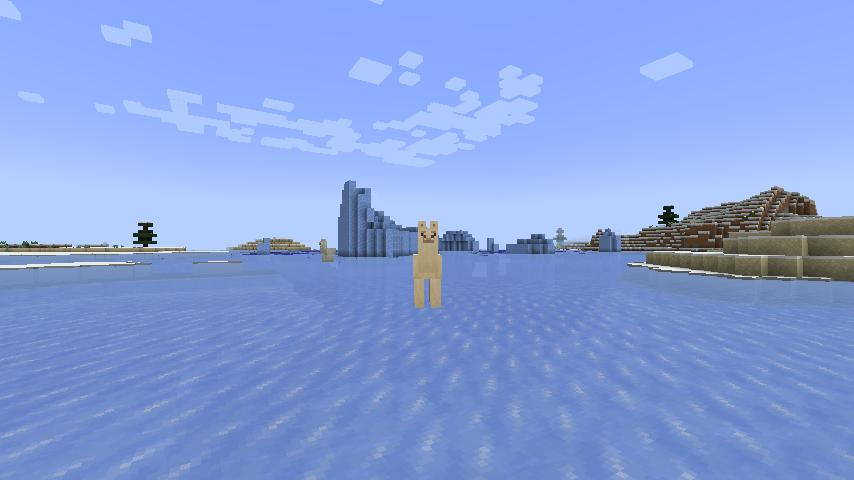llama: (412, 217, 445, 313), (319, 238, 337, 263)
